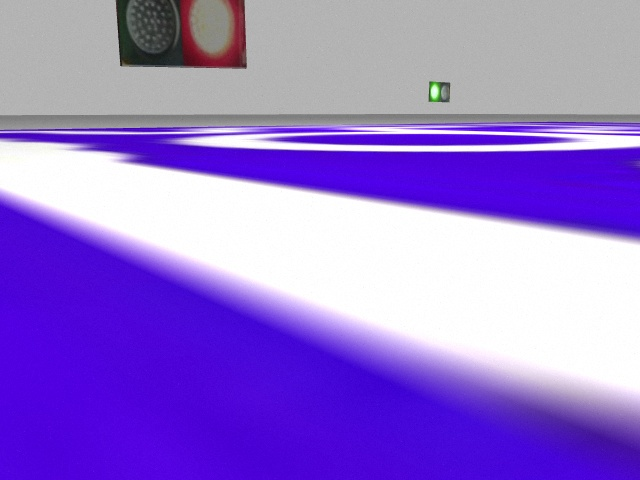red: (182, 1, 247, 69)
